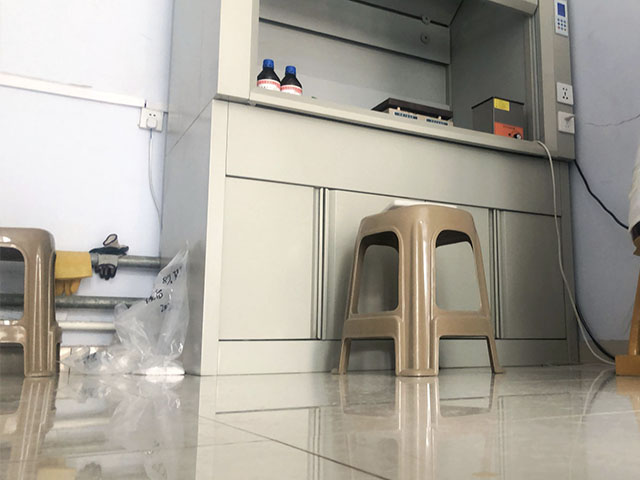cabinet: (196, 101, 584, 377)
stool: (328, 201, 508, 378), (1, 226, 65, 378)
wire: (551, 158, 640, 364)
